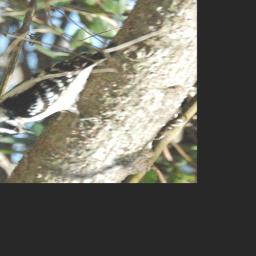Woodpecker: (0, 51, 108, 136)
